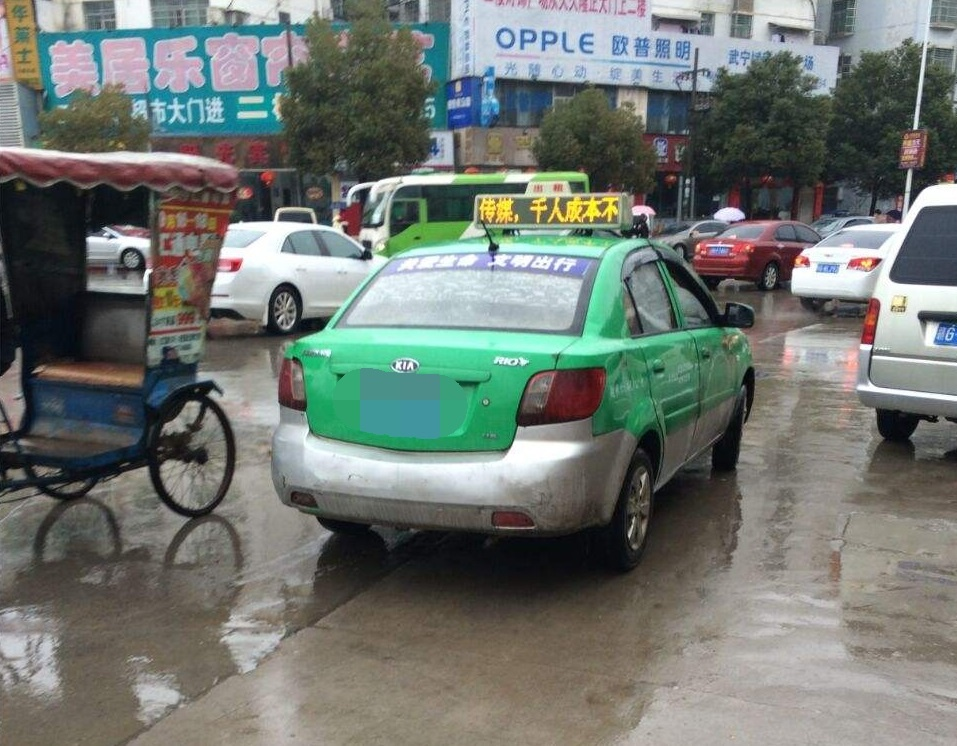taxi: (274, 195, 765, 561)
